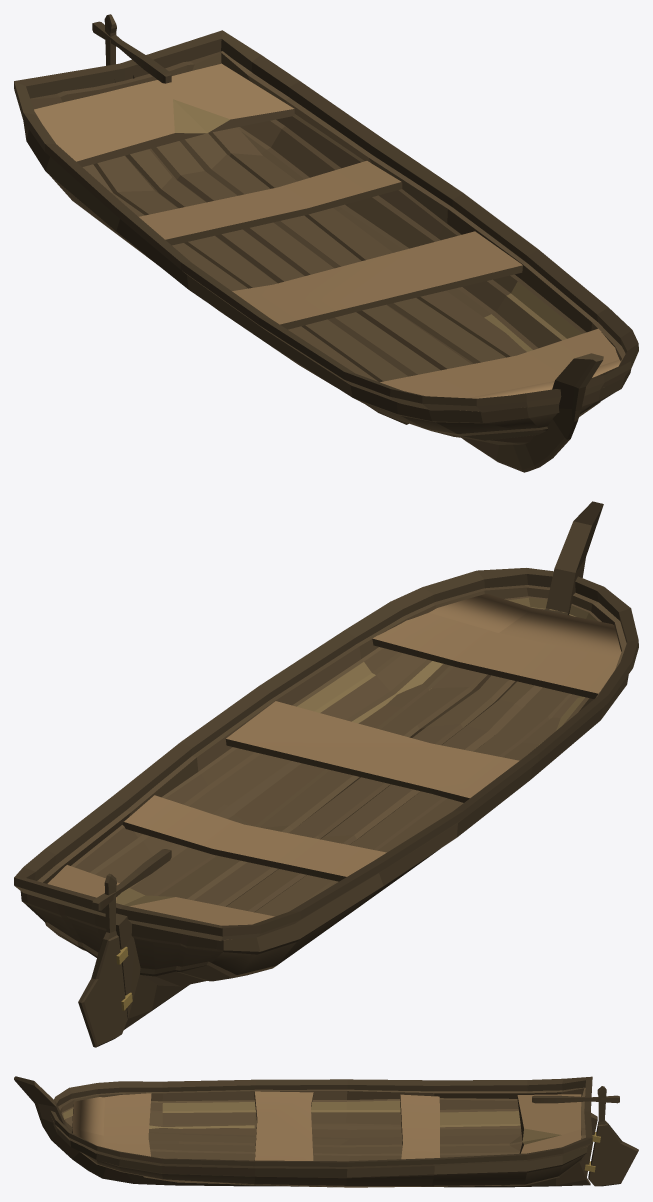
File: SM_Veh_Boat_Small_01_Hull_Pirate.fbx
3 renders of one model, top to bottom at view 1: azimuth 30°, elevation 25°; view 2: azimuth 150°, elevation 25°; view 3: azimuth 270°, elevation 25°, orthographic. The views are drawn at different scales.
Parts seen in each view (by area): view 1: SM_Veh_Boat_Small_01_Hull_Pirate; view 2: SM_Veh_Boat_Small_01_Hull_Pirate; view 3: SM_Veh_Boat_Small_01_Hull_Pirate.
Part boxes in pixels (box(x1,y1,x2,y2)): SM_Veh_Boat_Small_01_Hull_Pirate: box(14, 14, 638, 472); SM_Veh_Boat_Small_01_Hull_Pirate: box(14, 501, 638, 1047); SM_Veh_Boat_Small_01_Hull_Pirate: box(14, 1076, 638, 1187).
Size of the model in its own units: 0.0288 by 0.0177 by 0.0918.
Materials: 1 (1 with a texture image).
